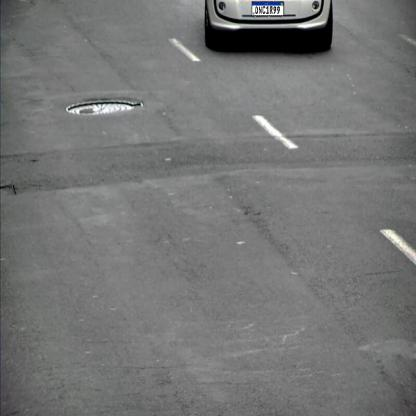PlacaM: (252, 1, 284, 16)
